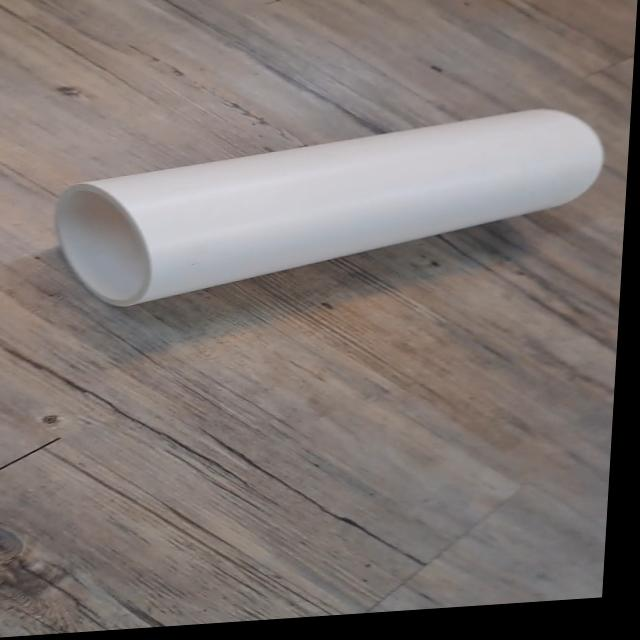CORAL: (22, 92, 632, 328)
